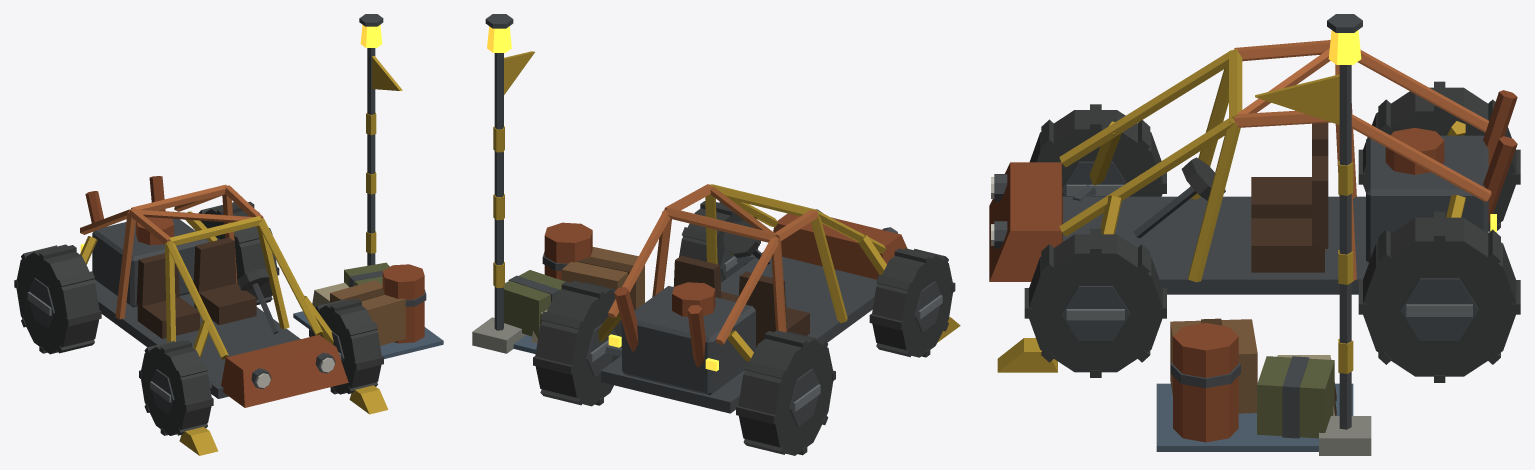
The model's file is vehicle_parked_extraction_t3.glb.
3 views of the same model, side by side, from view 1: azimuth 30°, elevation 25°; view 2: azimuth 150°, elevation 25°; view 3: azimuth 270°, elevation 25° (orthographic). The views are drawn at different scales.
Visible parts, largest first — view 1: vehicle, stash, beacon; view 2: vehicle, stash, beacon; view 3: vehicle, stash, beacon.
Boxes of the visible parts, x1=… form: vehicle: x1=14, y1=176, x2=388, y2=455; stash: x1=293, y1=262, x2=443, y2=358; beacon: x1=359, y1=14, x2=402, y2=265; vehicle: x1=533, y1=184, x2=960, y2=455; stash: x1=504, y1=222, x2=644, y2=353; beacon: x1=472, y1=14, x2=534, y2=353; vehicle: x1=989, y1=40, x2=1520, y2=382; stash: x1=1156, y1=318, x2=1353, y2=451; beacon: x1=1255, y1=14, x2=1371, y2=455.
Bounding box in the file's own units: 3.35 × 2.87 × 3.24.
